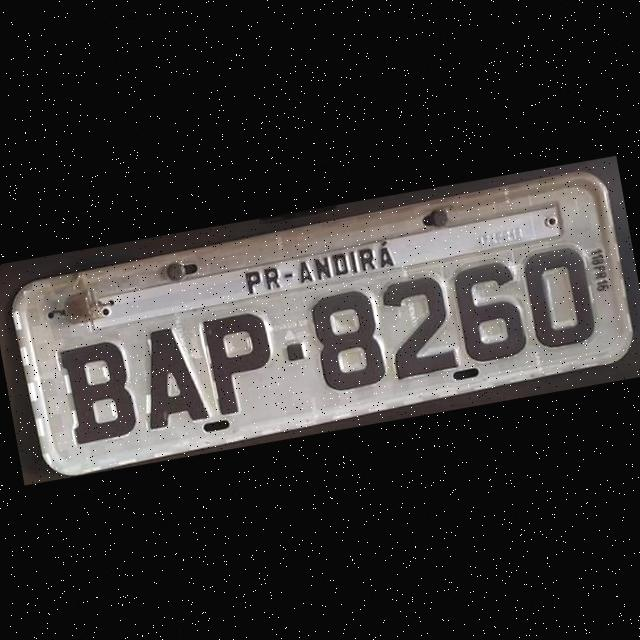Caractere: (198, 304, 284, 419), (305, 283, 391, 396), (378, 268, 463, 382), (516, 240, 599, 354), (448, 252, 530, 364), (56, 334, 138, 446), (132, 320, 211, 434)
Placa: (2, 163, 640, 482)
